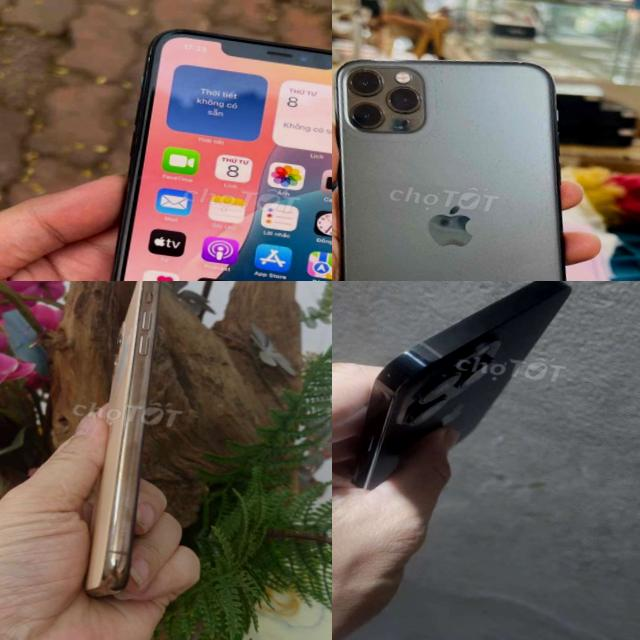scratch: (414, 54, 551, 110), (347, 58, 385, 88)
